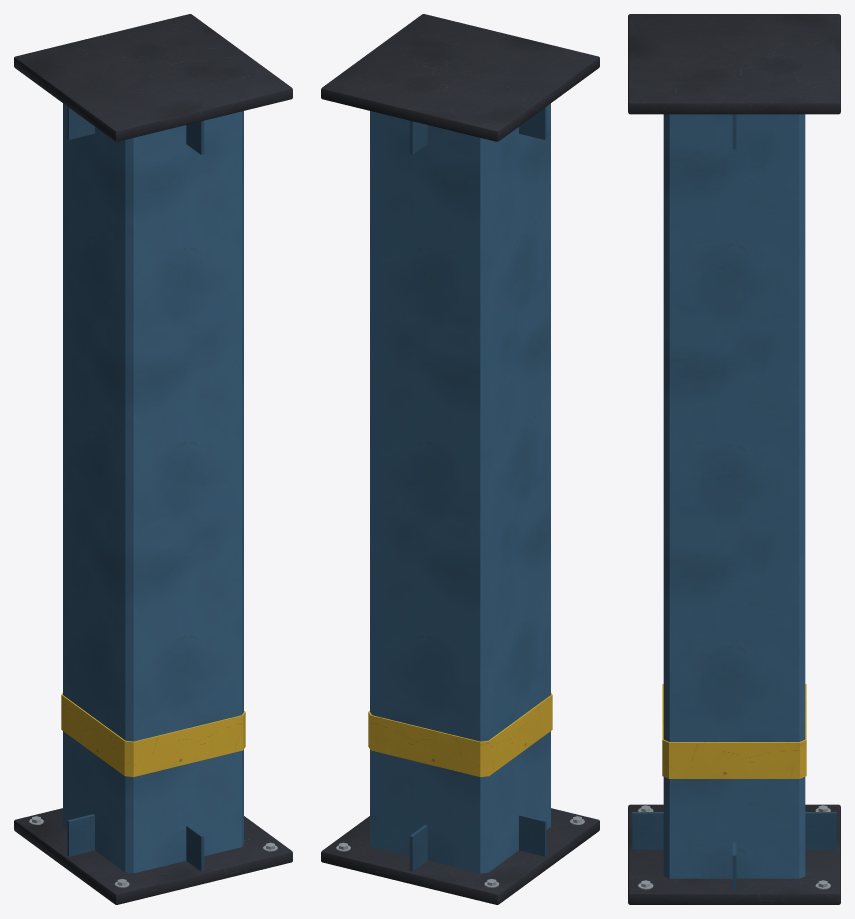
File: support_pillar.glb
3 views of the same model, side by side, from view 1: azimuth 30°, elevation 25°; view 2: azimuth 150°, elevation 25°; view 3: azimuth 270°, elevation 25° (orthographic). The views are drawn at different scales.
Parts seen in each view (by area): view 1: Body.007; view 2: Body.007; view 3: Body.007.
Boxes of the visible parts, x1,y1,x2,y2 form: Body.007: (14,14,292,904); Body.007: (321,14,599,904); Body.007: (628,14,840,904).
Size of the model in its own units: 0.48 by 2 by 0.48.
5 materials, 5 textured.
